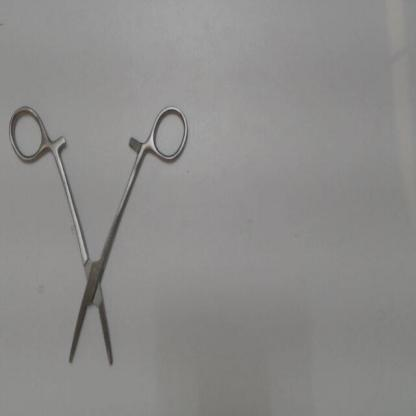Mayo Needle Holder: (4, 101, 194, 375)
